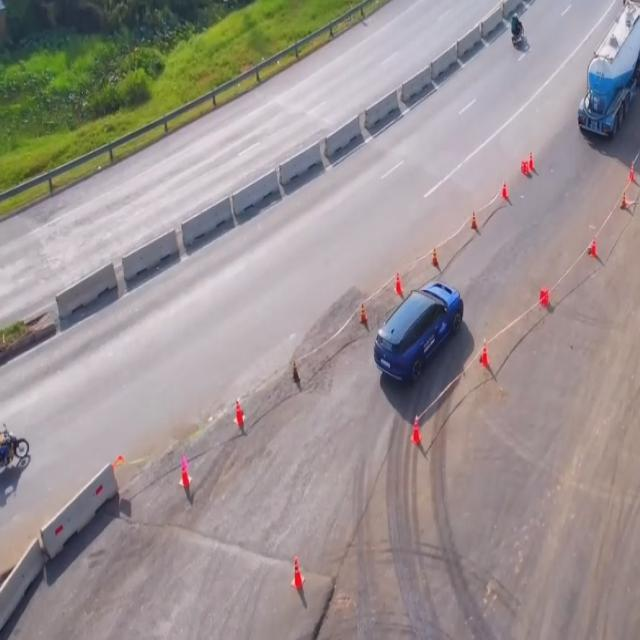car: (377, 282, 464, 381)
motorbike: (0, 402, 29, 518), (510, 8, 526, 53)
truck: (580, 1, 640, 143)
